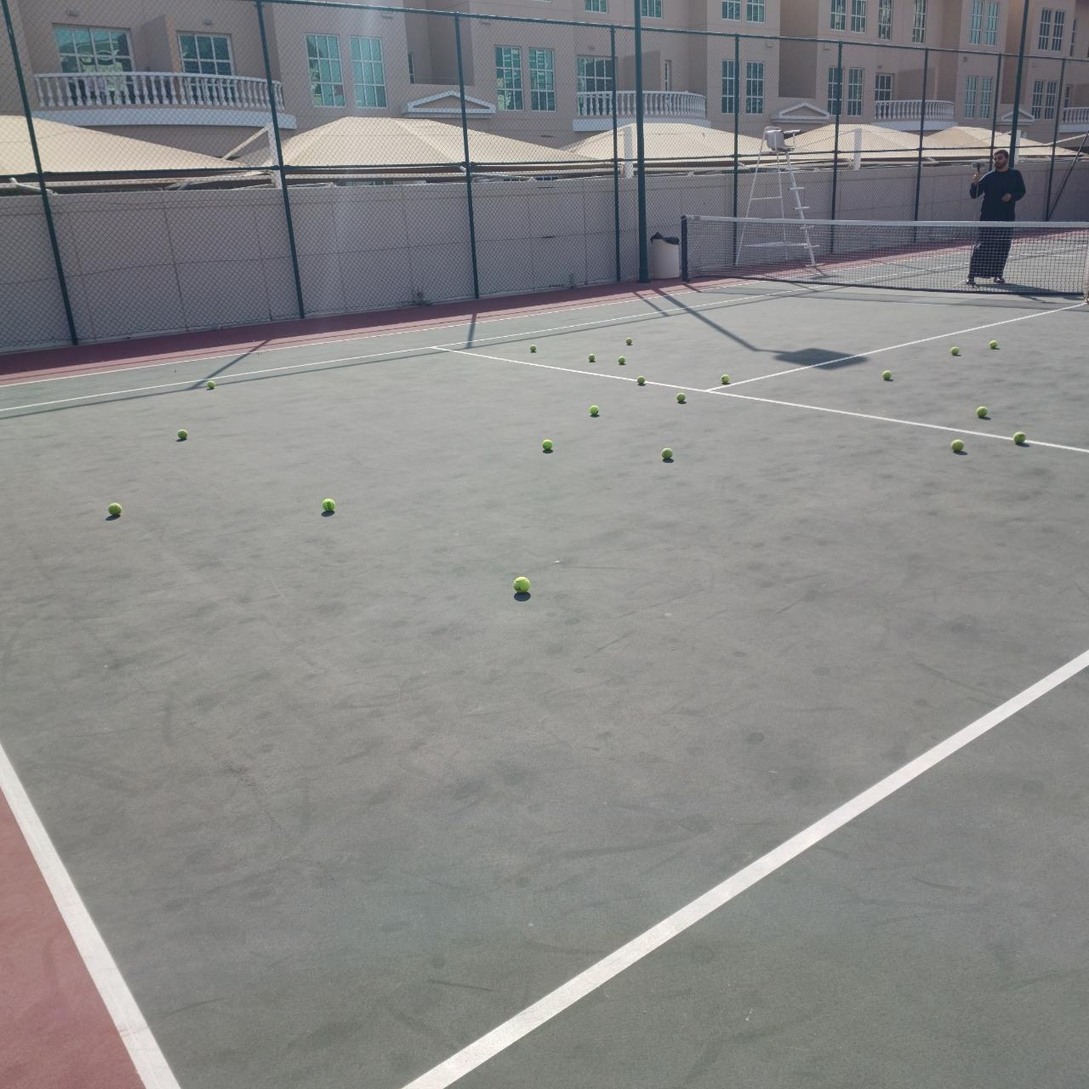tennis-ball: (511, 576, 530, 593), (949, 437, 965, 453), (107, 502, 121, 517), (1012, 429, 1026, 444), (322, 498, 335, 513), (975, 404, 988, 418), (541, 438, 553, 451), (661, 447, 673, 460), (177, 429, 188, 441), (589, 404, 599, 416), (720, 374, 730, 384), (676, 393, 686, 402), (882, 370, 891, 380), (989, 339, 998, 349), (637, 376, 646, 385), (529, 344, 537, 353), (588, 353, 596, 362), (951, 346, 959, 355), (618, 355, 625, 365), (207, 381, 215, 389), (625, 337, 632, 345)
